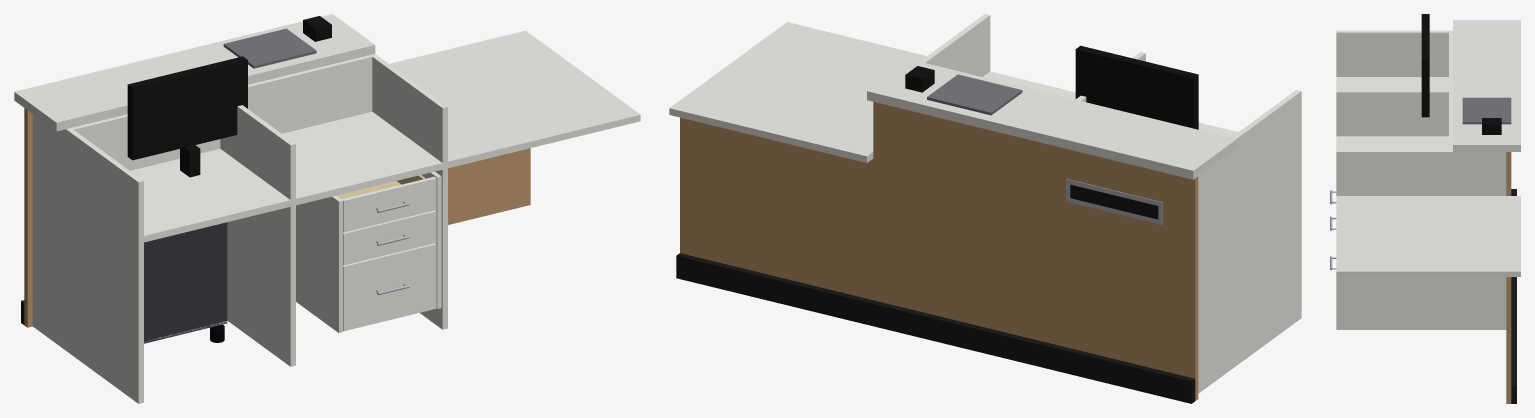
File: 079_library_circulation_desk.glb
3 views of the same model, side by side, from view 1: azimuth 30°, elevation 25°; view 2: azimuth 150°, elevation 25°; view 3: azimuth 270°, elevation 25° (orthographic). The views are drawn at different scales.
Visible parts, largest first — view 1: 006_structural_gable, 003_ada_counter_top, 004_staff_work_surface, 007_structural_gable, 002_patron_counter_top, 047_monitor, 009_counter_riser, 012_book_drop_bin, 018_drawer_1_front, 008_structural_gable, 045_pedestal_side, 001_ada_front_panel (+7 smaller); view 2: 000_patron_front_panel, 001_ada_front_panel, 006_structural_gable, 003_ada_counter_top, 002_patron_counter_top, 005_kick_base, 047_monitor, 008_structural_gable, 049_rfid_check_out_pad, 004_staff_work_surface, 011_book_drop_slot_opening, 010_book_drop_slot_frame (+1 smaller); view 3: 008_structural_gable, 003_ada_counter_top, 002_patron_counter_top, 007_structural_gable, 006_structural_gable, 004_staff_work_surface, 049_rfid_check_out_pad, 047_monitor, 005_kick_base, 001_ada_front_panel, 009_counter_riser, 050_barcode_scanner_cradle (+1 smaller).
Part boxes in pixels (box(x1,y1,x2,y2)): 006_structural_gable: box(32, 114, 143, 403); 003_ada_counter_top: box(389, 30, 640, 168); 004_staff_work_surface: box(66, 111, 447, 243); 007_structural_gable: box(220, 105, 295, 366); 002_patron_counter_top: box(14, 14, 375, 131); 047_monitor: box(127, 56, 247, 160); 009_counter_riser: box(66, 54, 375, 183); 012_book_drop_bin: box(144, 222, 227, 343); 018_drawer_1_front: box(343, 243, 436, 331); 008_structural_gable: box(371, 54, 447, 329); 045_pedestal_side: box(296, 195, 342, 332); 001_ada_front_panel: box(448, 148, 530, 224); 000_patron_front_panel: box(873, 102, 1198, 400); 001_ada_front_panel: box(680, 117, 873, 299); 006_structural_gable: box(1198, 90, 1301, 393); 003_ada_counter_top: box(669, 22, 926, 162); 002_patron_counter_top: box(867, 59, 1236, 179); 005_kick_base: box(676, 253, 1195, 403); 047_monitor: box(1075, 45, 1198, 129); 008_structural_gable: box(920, 14, 990, 76); 049_rfid_check_out_pad: box(927, 74, 1022, 115); 004_staff_work_surface: box(983, 71, 1301, 208); 011_book_drop_slot_opening: box(1070, 184, 1158, 219); 010_book_drop_slot_frame: box(1066, 179, 1162, 224); 008_structural_gable: box(1336, 150, 1506, 329); 003_ada_counter_top: box(1336, 196, 1520, 276); 002_patron_counter_top: box(1453, 20, 1520, 151); 007_structural_gable: box(1336, 90, 1452, 136); 006_structural_gable: box(1336, 30, 1452, 76); 004_staff_work_surface: box(1336, 77, 1448, 149); 049_rfid_check_out_pad: box(1462, 97, 1511, 124); 047_monitor: box(1421, 14, 1429, 117); 005_kick_base: box(1511, 189, 1516, 403); 001_ada_front_panel: box(1506, 277, 1511, 403); 009_counter_riser: box(1449, 31, 1452, 164); 050_barcode_scanner_cradle: box(1482, 118, 1501, 134).
Bounding box in the file's own units: 2.44 × 1.21 × 0.982.
